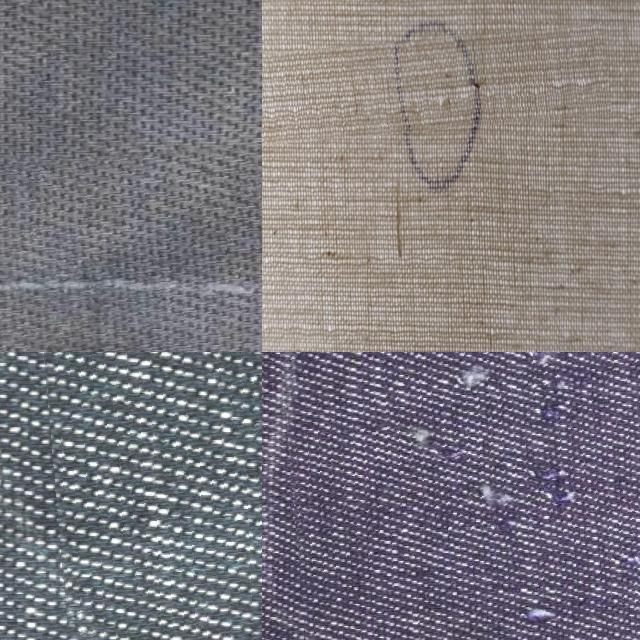stains: (270, 352, 640, 640), (47, 352, 262, 640), (0, 153, 262, 352), (262, 34, 609, 147)
